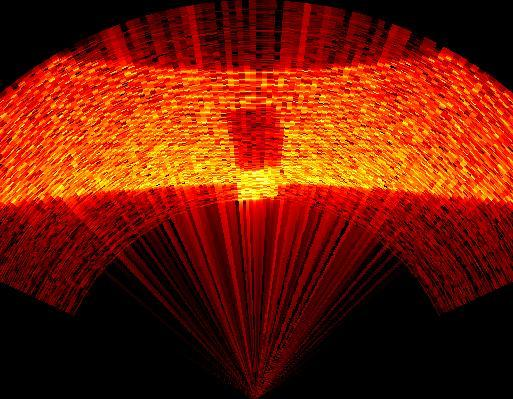box_crate: (224, 109, 280, 172)
